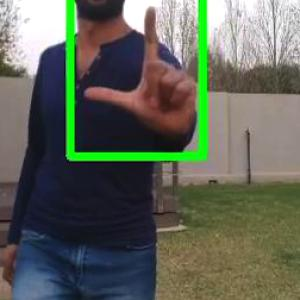land_hand: (76, 0, 200, 138)
